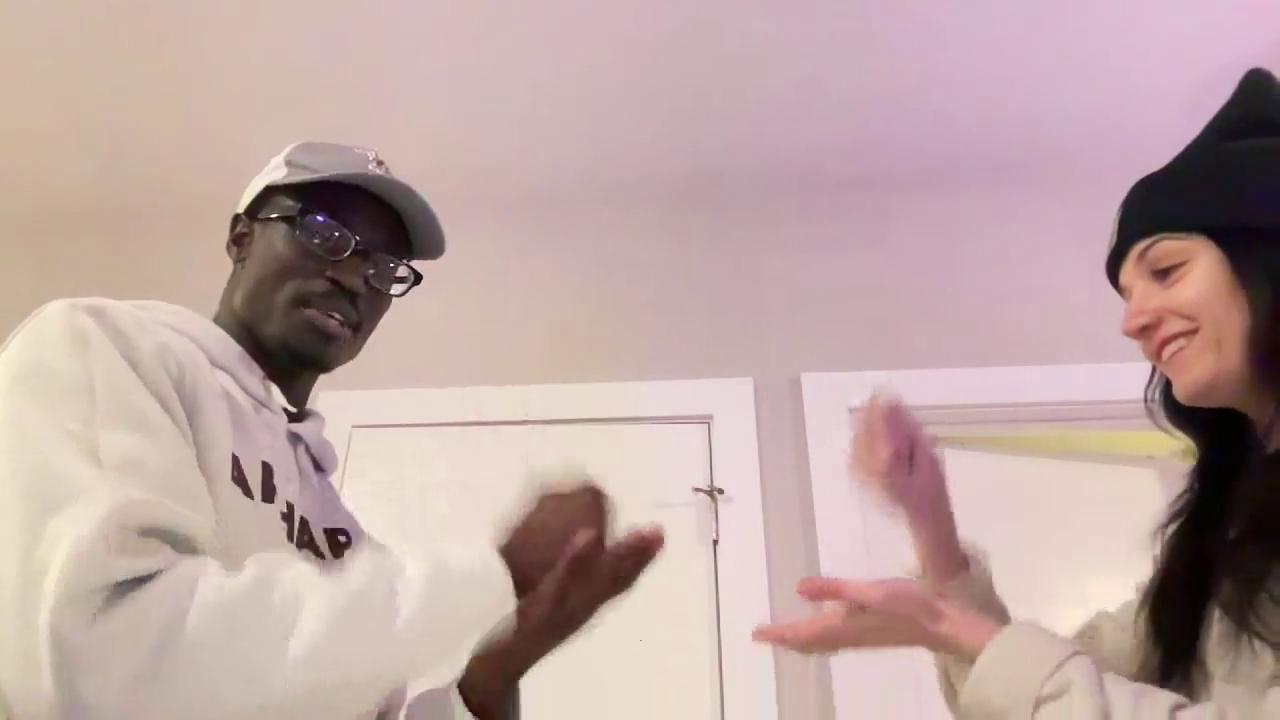Rock: (843, 392, 941, 513), (512, 482, 610, 594)
